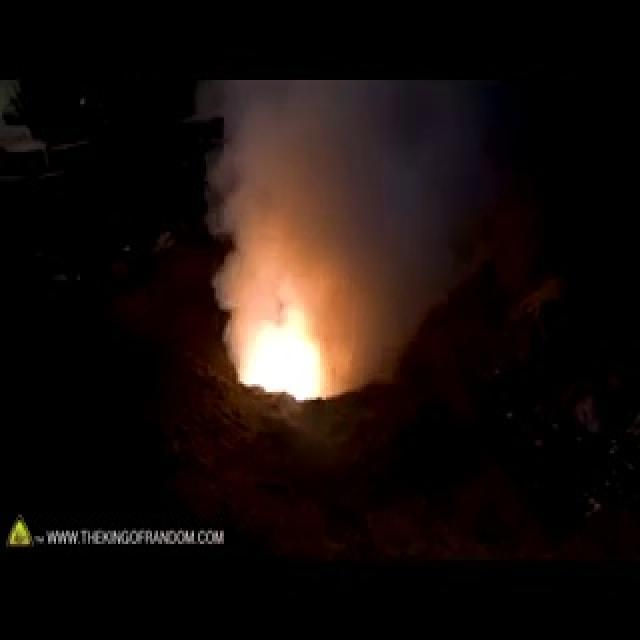Fire: (230, 268, 340, 402)
Smoke: (192, 79, 484, 272)
